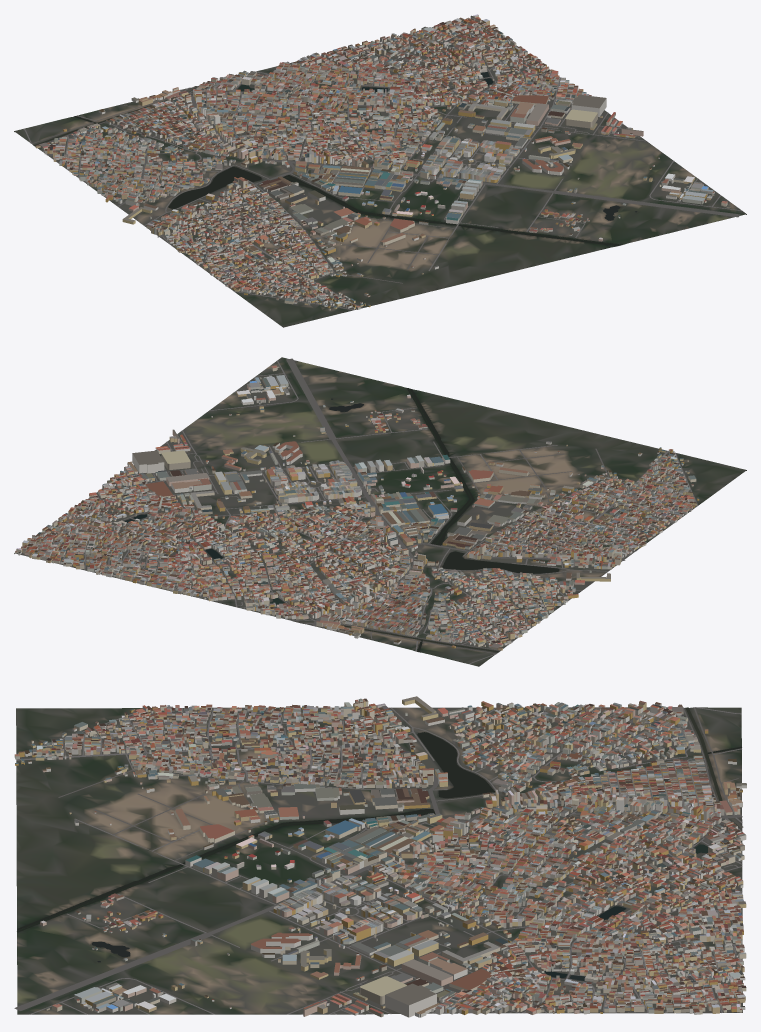
3 views of the same model, one above another, from view 1: azimuth 30°, elevation 25°; view 2: azimuth 150°, elevation 25°; view 3: azimuth 270°, elevation 25° (orthographic). The views are drawn at different scales.
Parts seen in each view (by area): view 1: buildings, ground, roads, water; view 2: buildings, ground, roads, water; view 3: buildings, ground, roads, water.
Boxes of the visible parts, x1,y1,x2,y2 form: buildings: (35, 14, 730, 310); ground: (14, 28, 746, 327); roads: (23, 34, 742, 310); water: (34, 72, 637, 245); buildings: (15, 365, 699, 650); ground: (14, 357, 746, 666); roads: (59, 358, 698, 664); water: (124, 388, 559, 652); buildings: (14, 696, 746, 1017); ground: (16, 707, 742, 1014); roads: (14, 707, 742, 1014); water: (17, 707, 743, 980).
Size of the model in its own units: 1452 by 32.87 by 1416.
